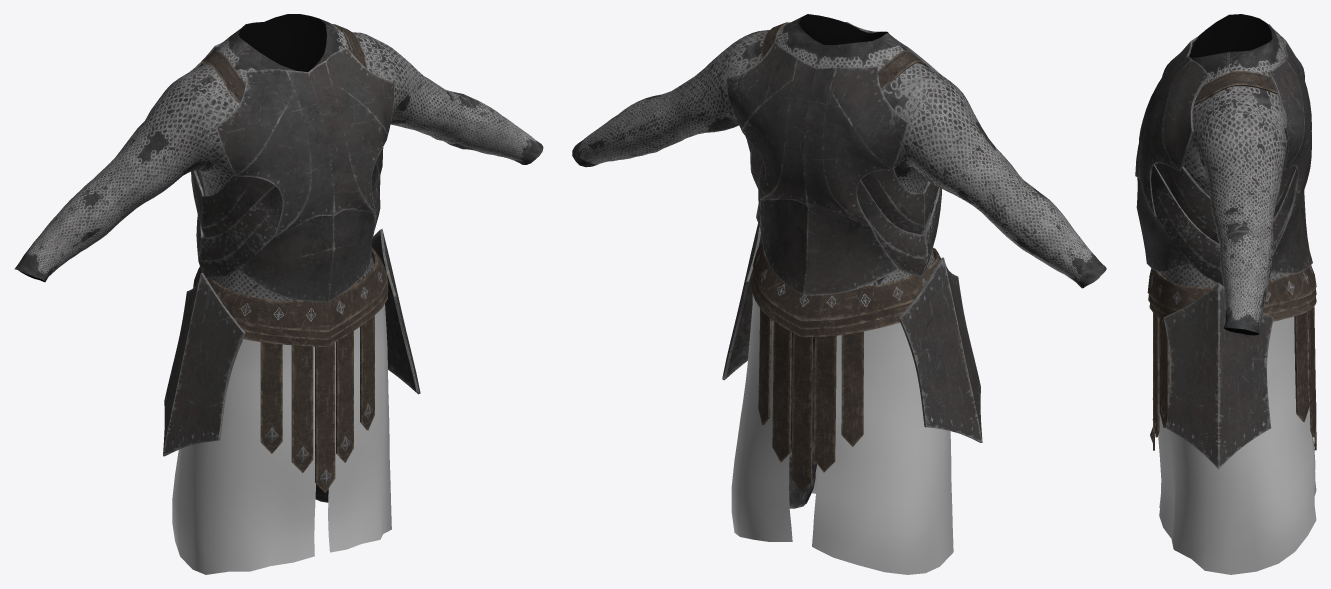
File: sk_uruk_mordor_chainmail_heavy_c2.fbx
The picture shows the model from 3 angles, left to right: view 1: azimuth 30°, elevation 25°; view 2: azimuth 150°, elevation 25°; view 3: azimuth 270°, elevation 25°; orthographic projection. The views are drawn at different scales.
Parts seen in each view (by area): view 1: sk_uruk_mordor_chainmail_heavy_c2.3, sk_uruk_mordor_chainmail_heavy_c2.0, sk_uruk_mordor_chainmail_heavy_c2.2, sk_uruk_mordor_chainmail_heavy_c2.1; view 2: sk_uruk_mordor_chainmail_heavy_c2.3, sk_uruk_mordor_chainmail_heavy_c2.0, sk_uruk_mordor_chainmail_heavy_c2.2, sk_uruk_mordor_chainmail_heavy_c2.1; view 3: sk_uruk_mordor_chainmail_heavy_c2.3, sk_uruk_mordor_chainmail_heavy_c2.2, sk_uruk_mordor_chainmail_heavy_c2.0, sk_uruk_mordor_chainmail_heavy_c2.1.
Boxes of the visible parts, x1,y1,x2,y2 form: sk_uruk_mordor_chainmail_heavy_c2.3: [163, 42, 420, 456]; sk_uruk_mordor_chainmail_heavy_c2.0: [14, 14, 543, 502]; sk_uruk_mordor_chainmail_heavy_c2.2: [172, 304, 391, 574]; sk_uruk_mordor_chainmail_heavy_c2.1: [193, 24, 388, 492]; sk_uruk_mordor_chainmail_heavy_c2.3: [722, 22, 982, 442]; sk_uruk_mordor_chainmail_heavy_c2.0: [572, 14, 1106, 508]; sk_uruk_mordor_chainmail_heavy_c2.2: [731, 294, 953, 574]; sk_uruk_mordor_chainmail_heavy_c2.1: [750, 22, 940, 492]; sk_uruk_mordor_chainmail_heavy_c2.3: [1135, 24, 1312, 469]; sk_uruk_mordor_chainmail_heavy_c2.2: [1158, 316, 1316, 574]; sk_uruk_mordor_chainmail_heavy_c2.0: [1159, 14, 1287, 335]; sk_uruk_mordor_chainmail_heavy_c2.1: [1147, 70, 1316, 450].
Size of the model in its own units: 1.37 by 0.4267 by 1.29.
